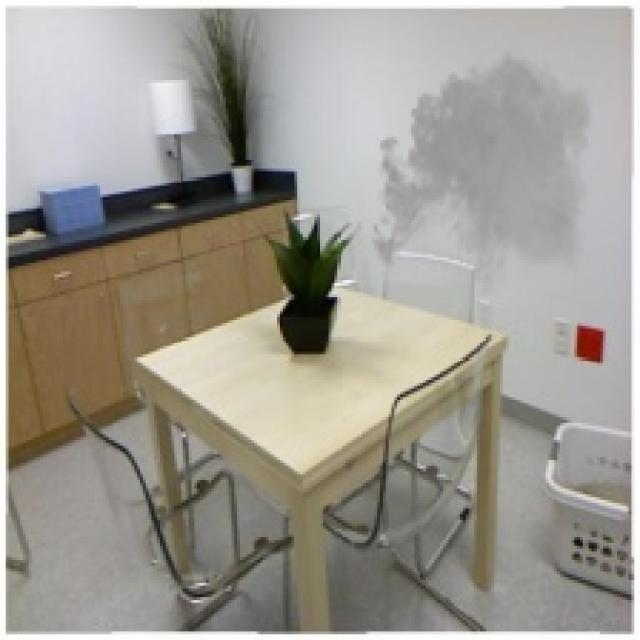Smoke: (363, 34, 603, 314)
